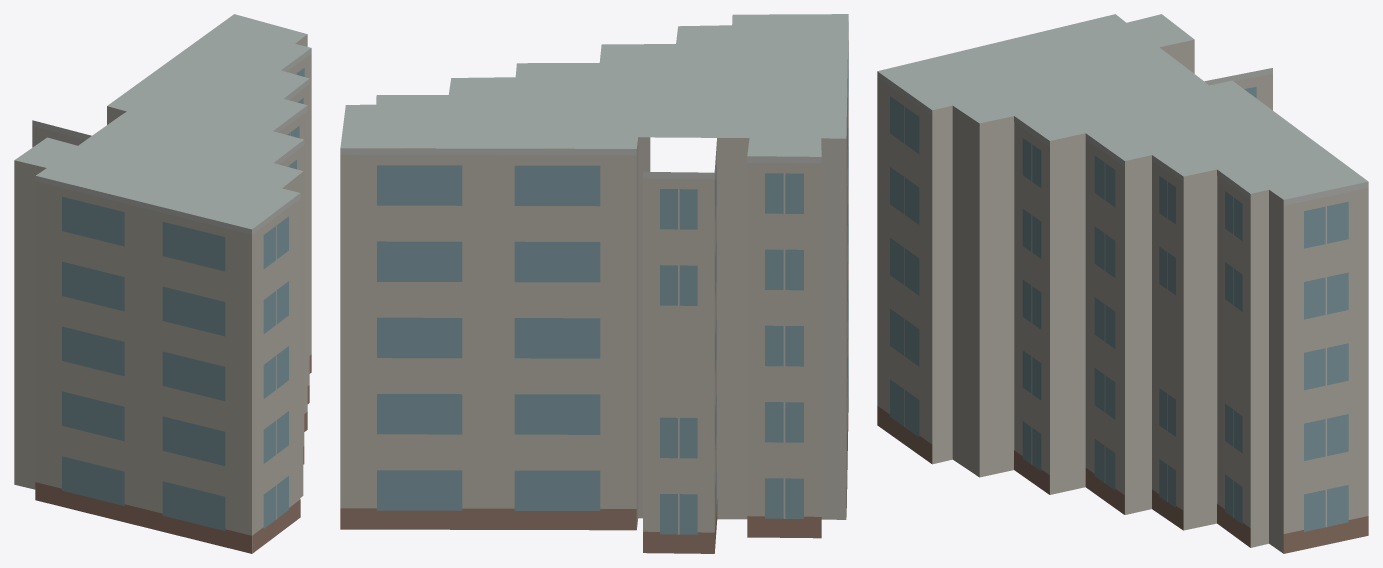
The model's file is survey-upis-32504705.glb.
3 views of the same model, side by side, from view 1: azimuth 30°, elevation 25°; view 2: azimuth 150°, elevation 25°; view 3: azimuth 270°, elevation 25° (orthographic). The views are drawn at different scales.
Visible parts, largest first — view 1: survey-upis-32504705.tmp; view 2: survey-upis-32504705.tmp; view 3: survey-upis-32504705.tmp.
Part boxes in pixels (<box>): survey-upis-32504705.tmp: <box>14,14,311,553</box>; survey-upis-32504705.tmp: <box>340,14,848,553</box>; survey-upis-32504705.tmp: <box>877,14,1368,553</box>.
Bounding box in the file's own units: 16 × 14.2 × 17.87.
